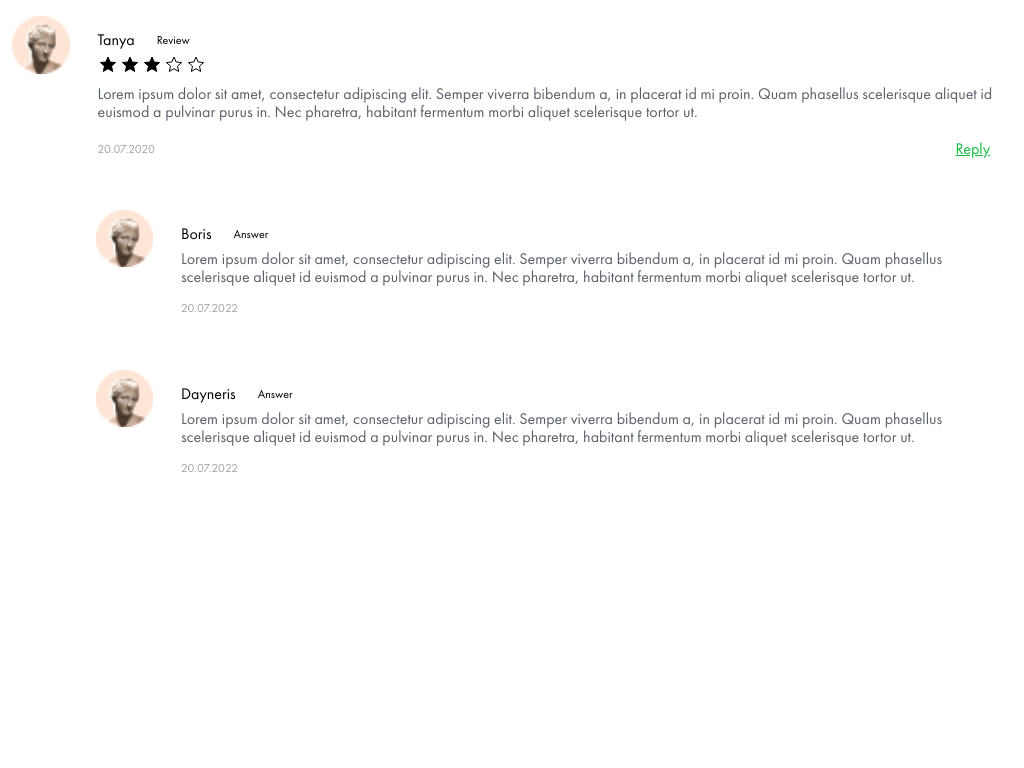
Test case: Review component › form opened
Click the button "Reply".
click(973, 148)  # box [950,137,996,160]
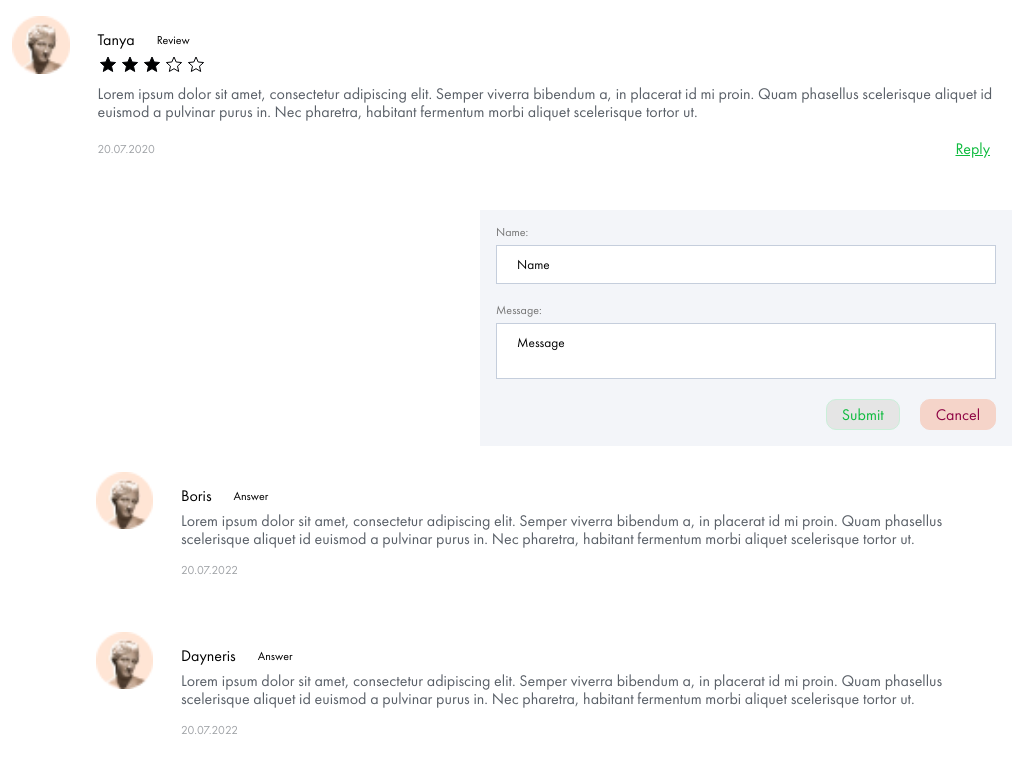
Now the form with test id "reply-form" is shown, box [480,210,1012,446]
